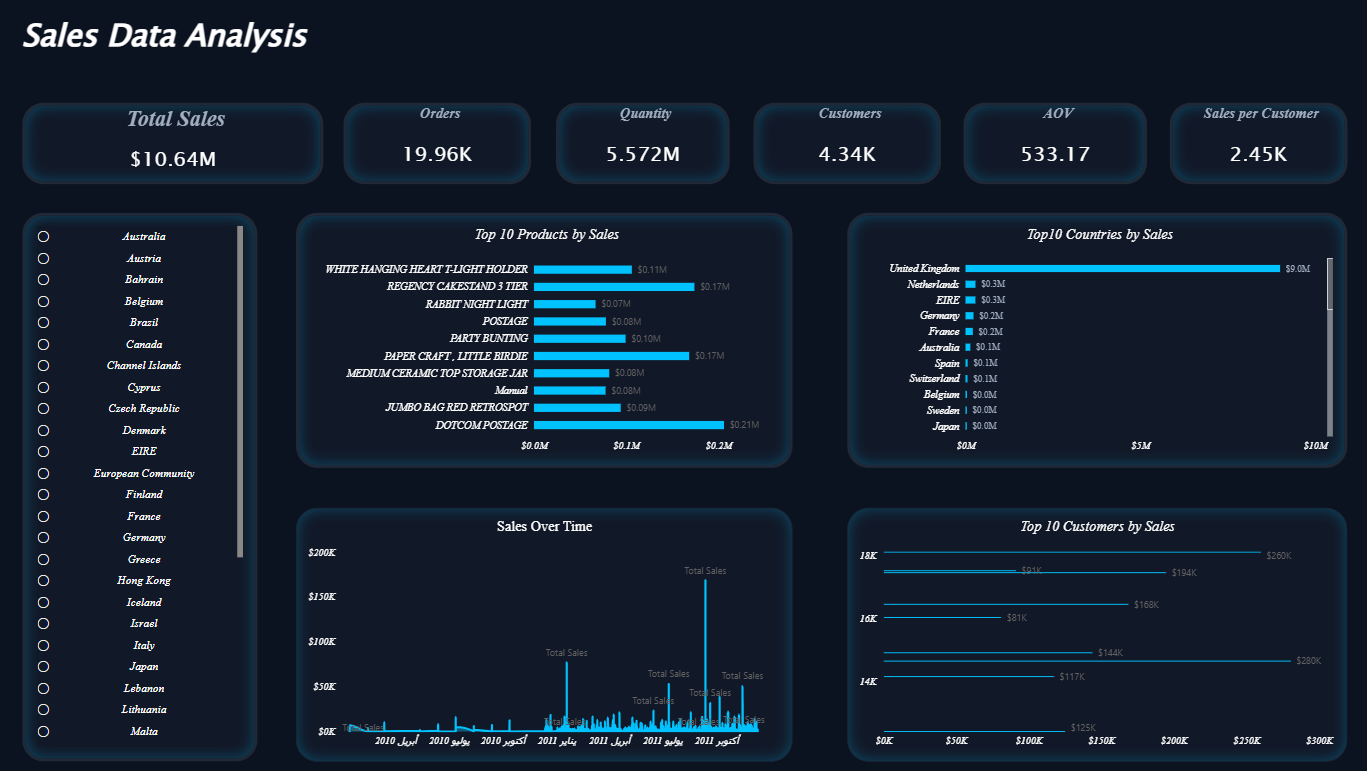

What the dashboard file says about the page in this screenshot:
{"tool":"powerbi","page":{"name":"Page 1","canvas":[1920,1080],"ordinal":0},"visuals":[{"type":"cardVisual","title":"Total Sales","fields":{"Data":["data.Total Sales"]},"box":[36.6,144.8,420.4,113.4],"z":0},{"type":"textbox","box":[36.6,19.2,509.3,68],"z":1000},{"type":"cardVisual","title":" Orders","fields":{"Data":["data.Total Orders"]},"box":[484.9,144.8,261.6,113.4],"z":2000},{"type":"cardVisual","title":" Quantity","fields":{"Data":["data.Total Quantity"]},"box":[781.4,144.8,242.4,113.4],"z":3000},{"type":"cardVisual","title":" Customers","fields":{"Data":["data.Total Customers"]},"box":[1057,144.8,261.6,113.4],"z":4000},{"type":"clusteredBarChart","title":"Top 10 Products by Sales","fields":{"Category":["data.Description"],"Y":["data.Total Sales"]},"box":[418.6,298.3,692.4,355.8],"z":5000},{"type":"clusteredBarChart","title":"Top10 Countries by Sales","fields":{"Category":["data.Country"],"Y":["data.Total Sales"]},"box":[1187.8,298.3,697.7,355.8],"z":6000},{"type":"listSlicer","fields":{"Values":["data.Country"]},"box":[36.8,298.1,328.3,765.5],"z":7000},{"type":"lineChart","title":"Sales Over Time","fields":{"Category":["data.InvoiceDate"],"Y":["data.Total Sales"]},"box":[418.6,709.9,692.4,354.1],"z":7001},{"type":"clusteredBarChart","title":"Top 10 Customers by Sales","fields":{"Category":["data.CustomerID"],"Y":["data.Total Sales"]},"box":[1187.8,709.9,697.7,354.1],"z":7002},{"type":"cardVisual","title":"AOV","fields":{"Data":["data.AOV"]},"box":[1350,144.8,256.4,113.4],"z":7003},{"type":"cardVisual","title":"Sales per Customer","fields":{"Data":["data.Sales per Customer"]},"box":[1637.8,144.8,247.7,113.4],"z":7004}]}

Visuals, with their boxes in screenshot pixels (x1, y1, x2, y2), scaled from the page's 1920x1080 canvas onto the 1367x771 screenshot:
"Total Sales" cardVisual: BBox(26, 103, 325, 184)
textbox: BBox(26, 14, 389, 62)
" Orders" cardVisual: BBox(345, 103, 531, 184)
" Quantity" cardVisual: BBox(556, 103, 729, 184)
" Customers" cardVisual: BBox(753, 103, 939, 184)
"Top 10 Products by Sales" clusteredBarChart: BBox(298, 213, 791, 467)
"Top10 Countries by Sales" clusteredBarChart: BBox(846, 213, 1342, 467)
listSlicer - data.Country: BBox(26, 213, 260, 759)
"Sales Over Time" lineChart: BBox(298, 507, 791, 760)
"Top 10 Customers by Sales" clusteredBarChart: BBox(846, 507, 1342, 760)
"AOV" cardVisual: BBox(961, 103, 1144, 184)
"Sales per Customer" cardVisual: BBox(1166, 103, 1342, 184)
